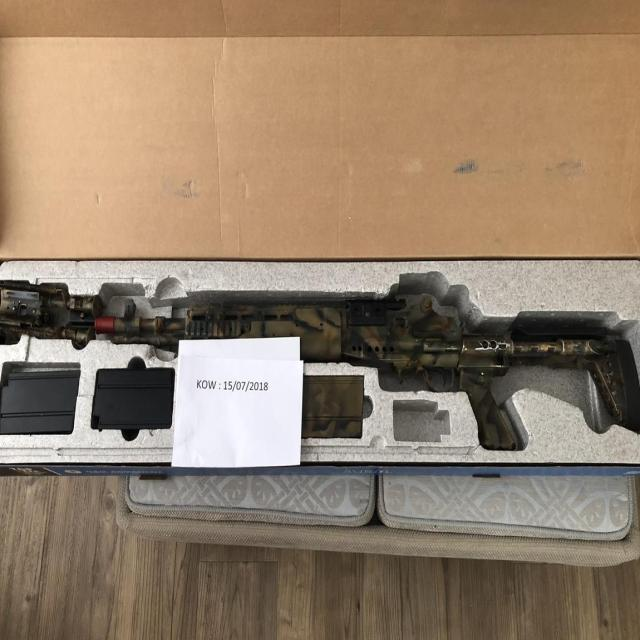Gun: (0, 238, 640, 550)
